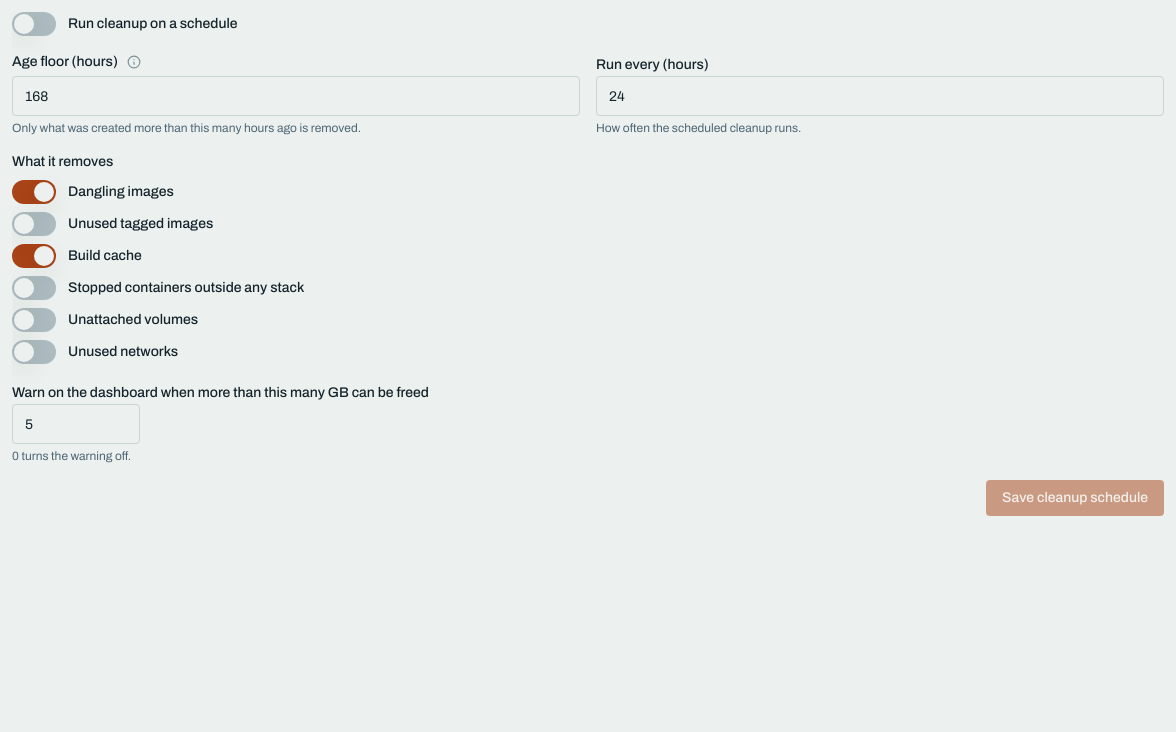
Test case: CleanupPolicyForm: the age floor and interval › disables Save below the floor and enables it at the floor
// Below the floor the server would 400, so the form refuses first.
Replace the text in the number field labelled "Age floor (hours)" with "3" at {"x": 296, "y": 96}, box [12,76,580,116]
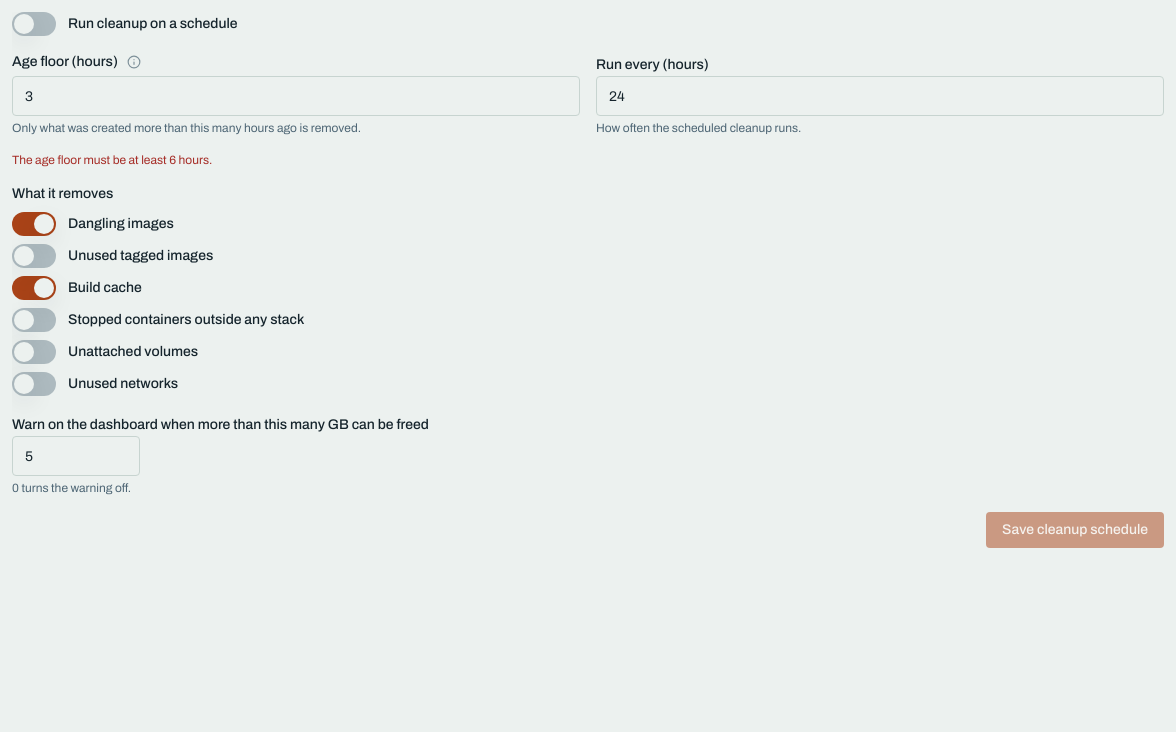
Expected: the button "Save cleanup schedule" is disabled, [986,512,1164,548]
Expected: the text "The age floor must be at least 6 hours." is shown, [12,153,212,167]
// Same instrument, other side: exactly at the floor is a legal change.
Replace the text in the number field labelled "Age floor (hours)" with "6" at {"x": 296, "y": 96}, box [12,76,580,116]
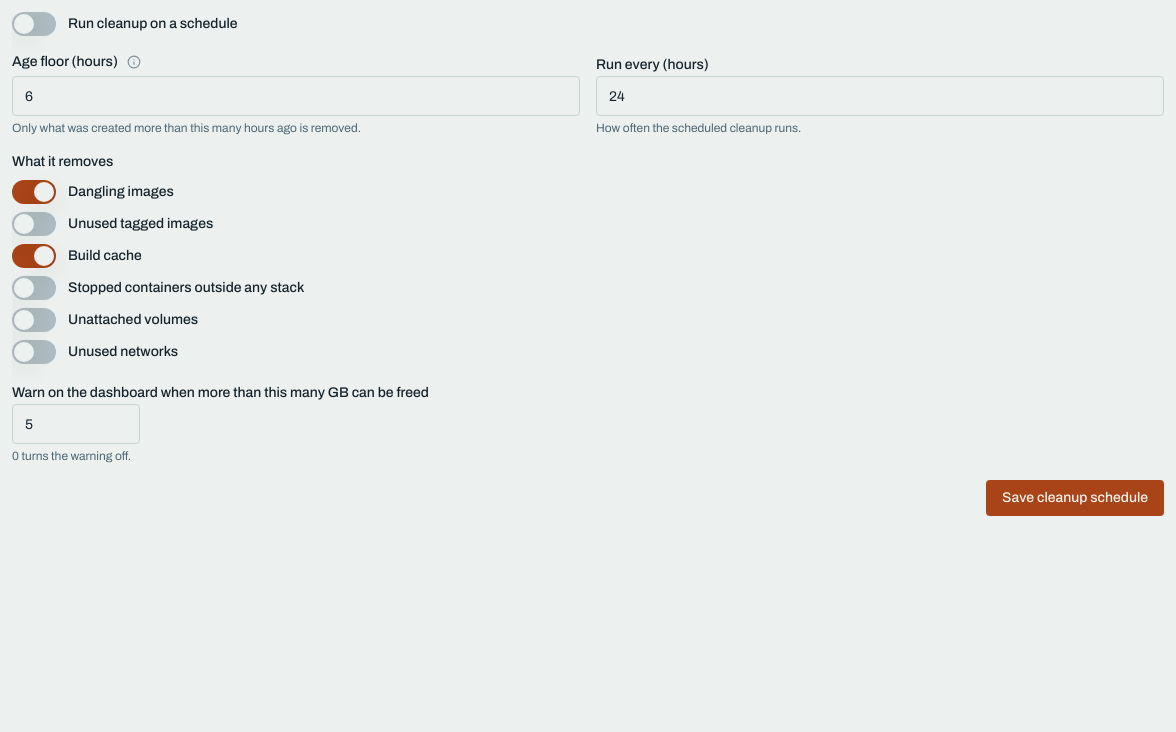
Expected: the button "Save cleanup schedule" is enabled, [986,480,1164,516]
Expected: the text "The age floor must be at least 6 hours." is gone
